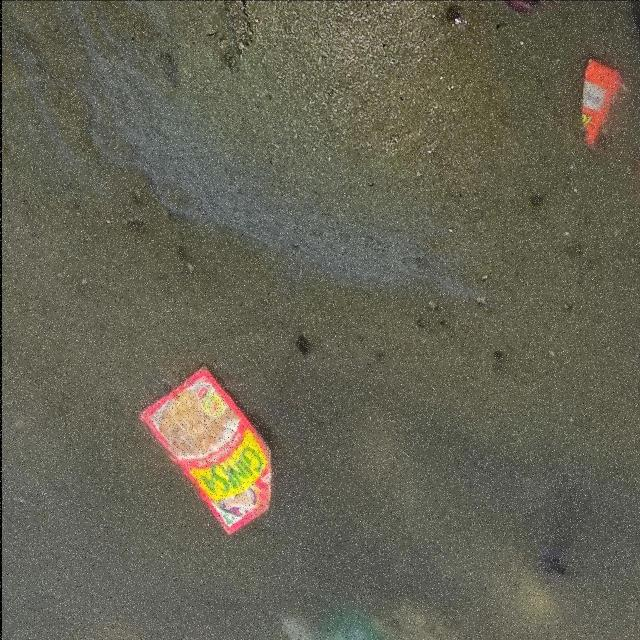plastic_waste: (136, 369, 272, 537), (582, 58, 626, 147)
